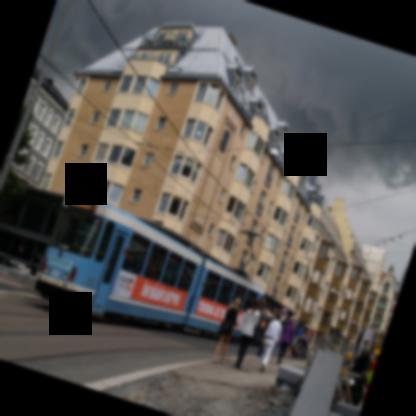handbag: (218, 310, 236, 335), (255, 343, 263, 357)
